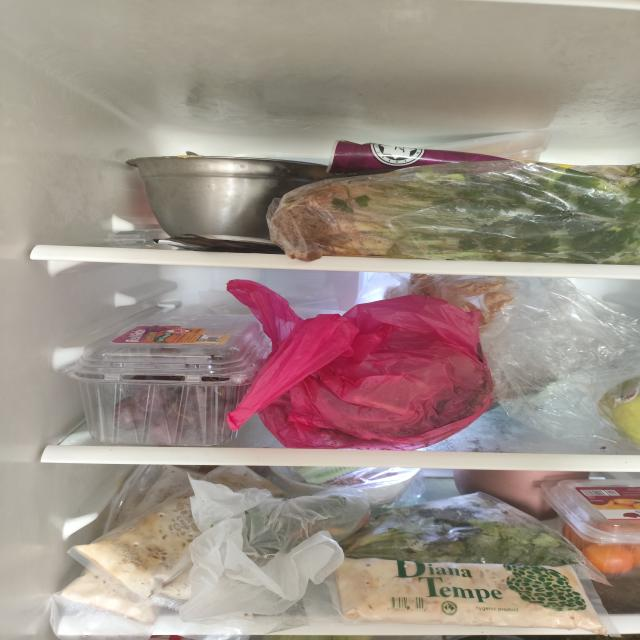grape: (113, 347, 250, 445)
leafy_greens: (269, 160, 640, 265), (341, 490, 585, 567)
tempeh: (61, 466, 283, 624), (336, 557, 608, 636)
